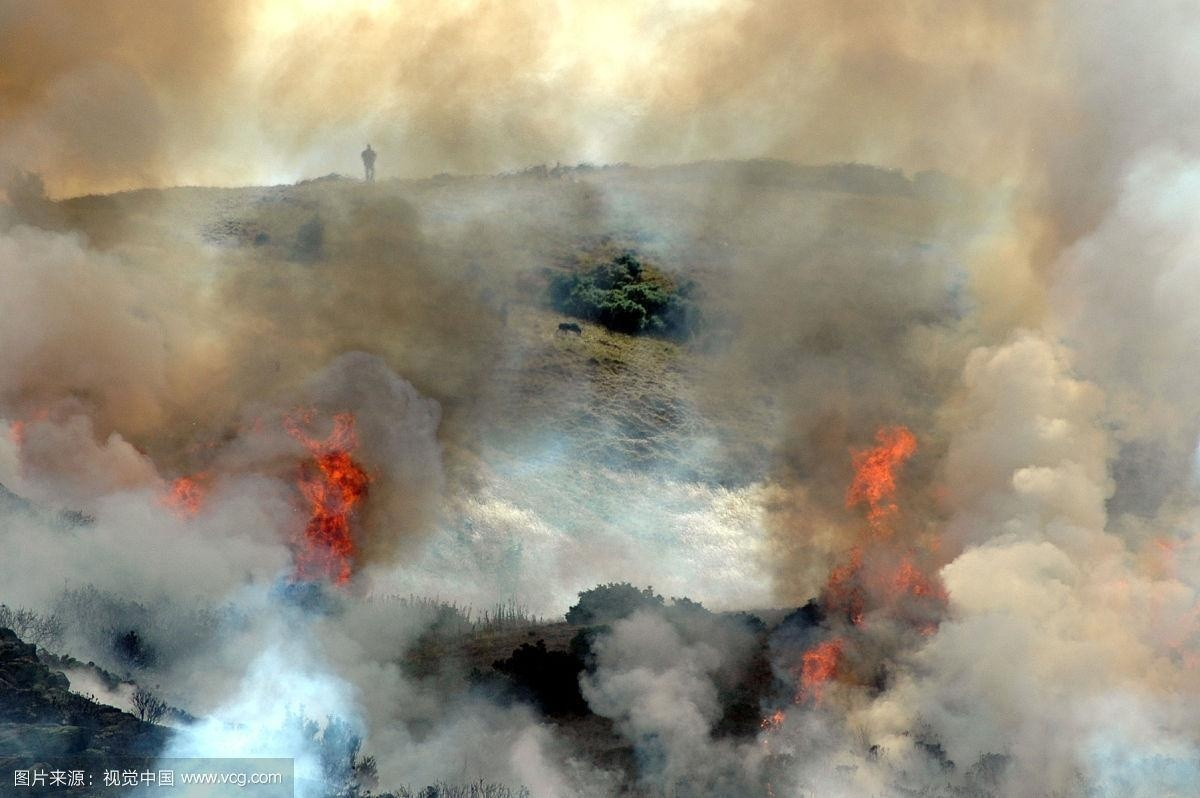fire: (782, 411, 946, 718), (288, 404, 373, 584), (157, 467, 212, 515)
